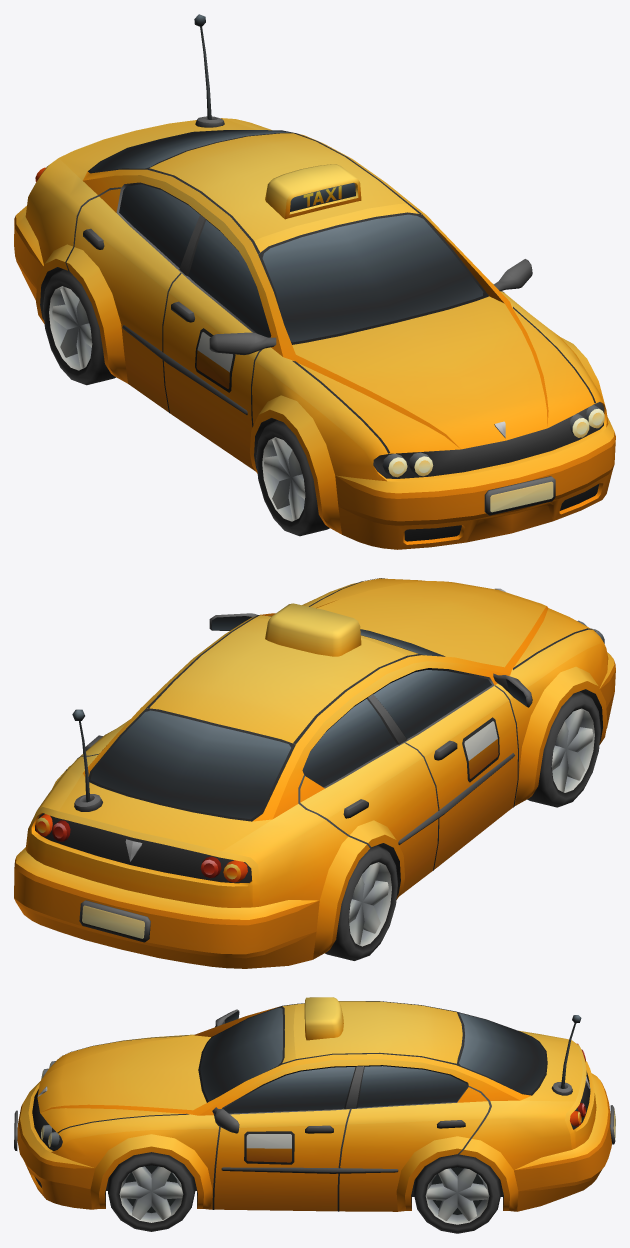
The model's file is Car_14C.fbx.
3 views of the same model, one above another, from view 1: azimuth 30°, elevation 25°; view 2: azimuth 150°, elevation 25°; view 3: azimuth 270°, elevation 25° (orthographic). The views are drawn at different scales.
Visible parts, largest first — view 1: Car_14C, Wheel_14C_F.R, Wheel_14C_R.R, Livery_14C; view 2: Car_14C, Wheel_14C_F.R, Wheel_14C_R.R, Livery_14C; view 3: Car_14C, Wheel_14C_F.L, Wheel_14C_R.L, Livery_14C.
Part boxes in pixels (x1=…): Car_14C: x1=14, y1=116, x2=615, y2=549; Wheel_14C_F.R: x1=256, y1=420, x2=329, y2=536; Wheel_14C_R.R: x1=43, y1=269, x2=115, y2=385; Livery_14C: x1=195, y1=186, x2=341, y2=392; Car_14C: x1=14, y1=578, x2=615, y2=968; Wheel_14C_F.R: x1=527, y1=691, x2=600, y2=807; Wheel_14C_R.R: x1=325, y1=845, x2=398, y2=960; Livery_14C: x1=462, y1=717, x2=499, y2=782; Car_14C: x1=14, y1=997, x2=615, y2=1211; Wheel_14C_F.L: x1=108, y1=1152, x2=195, y2=1231; Wheel_14C_R.L: x1=414, y1=1154, x2=501, y2=1233; Livery_14C: x1=244, y1=1131, x2=294, y2=1164.
Bounding box in the file's own units: 265 × 202 × 584.
